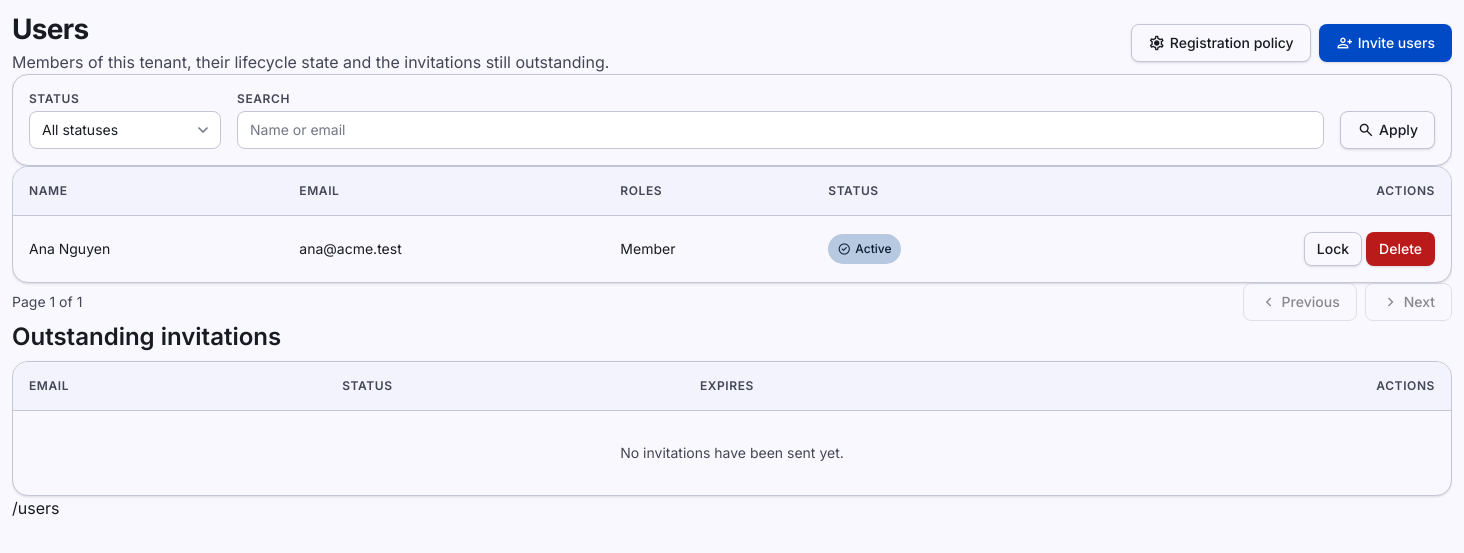
Scenario: UsersPage › renders a failed action from its error code, not the server message
The width and height of the screenshot is (1464, 553).
Step 1. Click the button "Lock" → (1333, 249), box [1304, 232, 1362, 266]
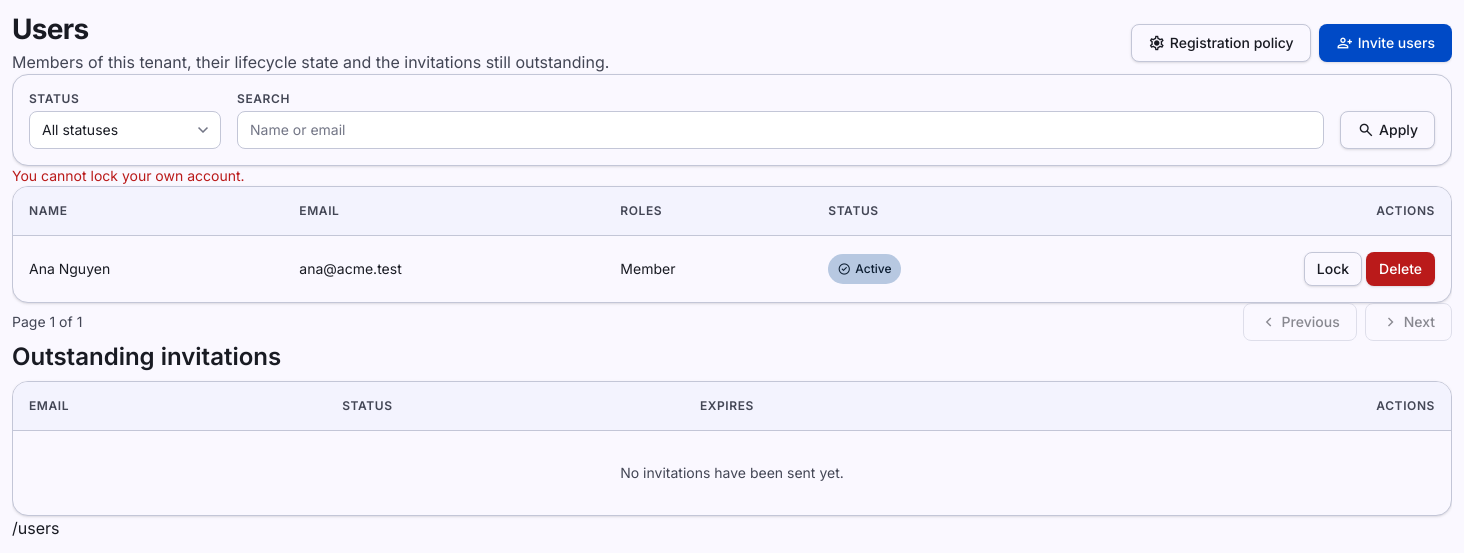
Expected: the text "You cannot lock your own account." is shown, [12, 167, 245, 184]
